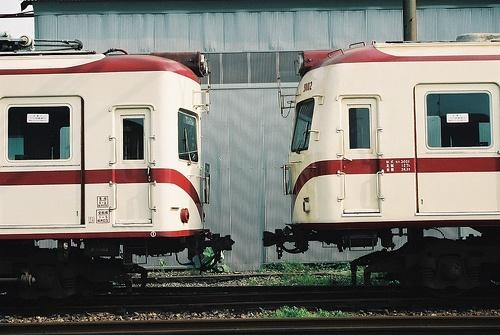train: (263, 32, 500, 295), (1, 36, 235, 299)
